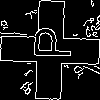P: (25, 25, 71, 60)
